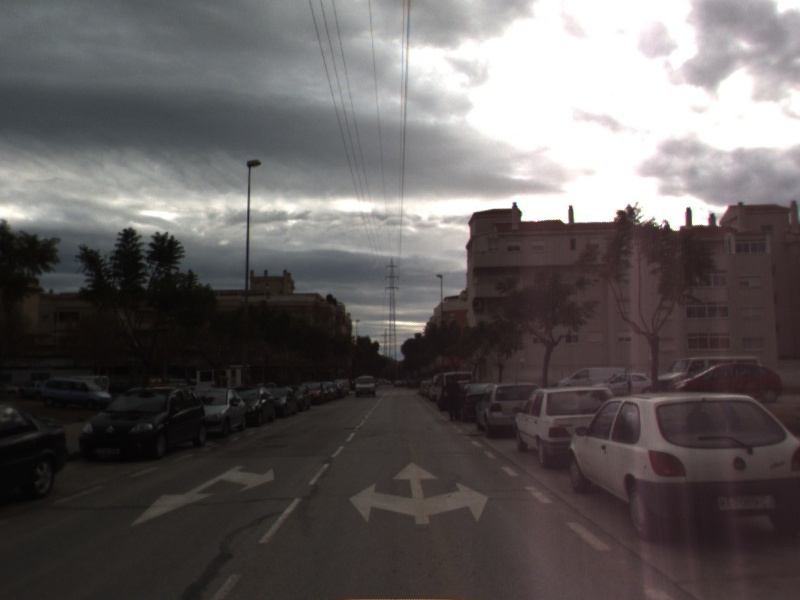STRAIGHT_LEFT_RIGHT: (347, 459, 491, 527)
